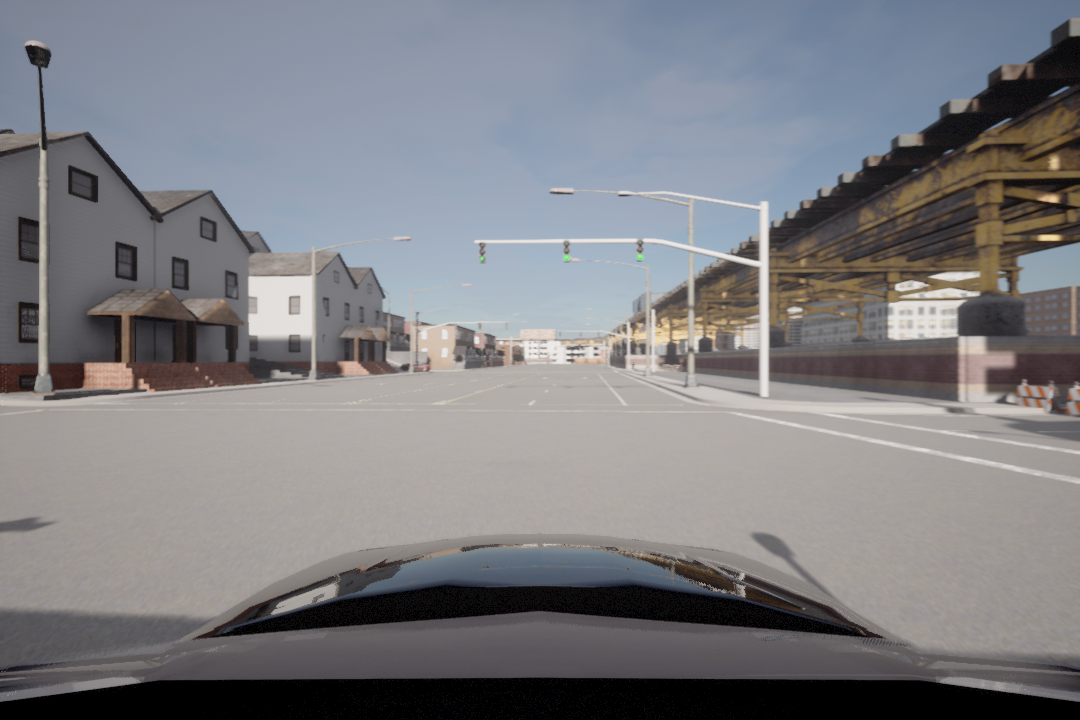TrafficLight: (633, 236, 645, 262), (561, 238, 572, 264), (477, 241, 488, 265)
